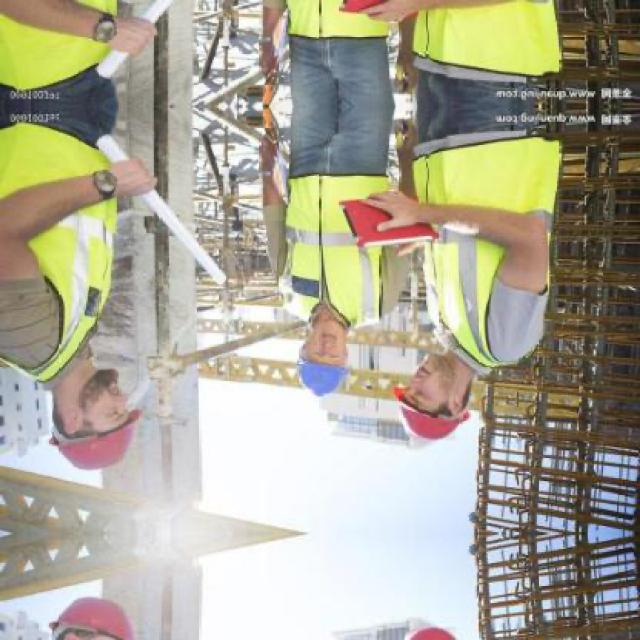con casco: (397, 358, 497, 462), (59, 390, 157, 478), (309, 329, 372, 410)
